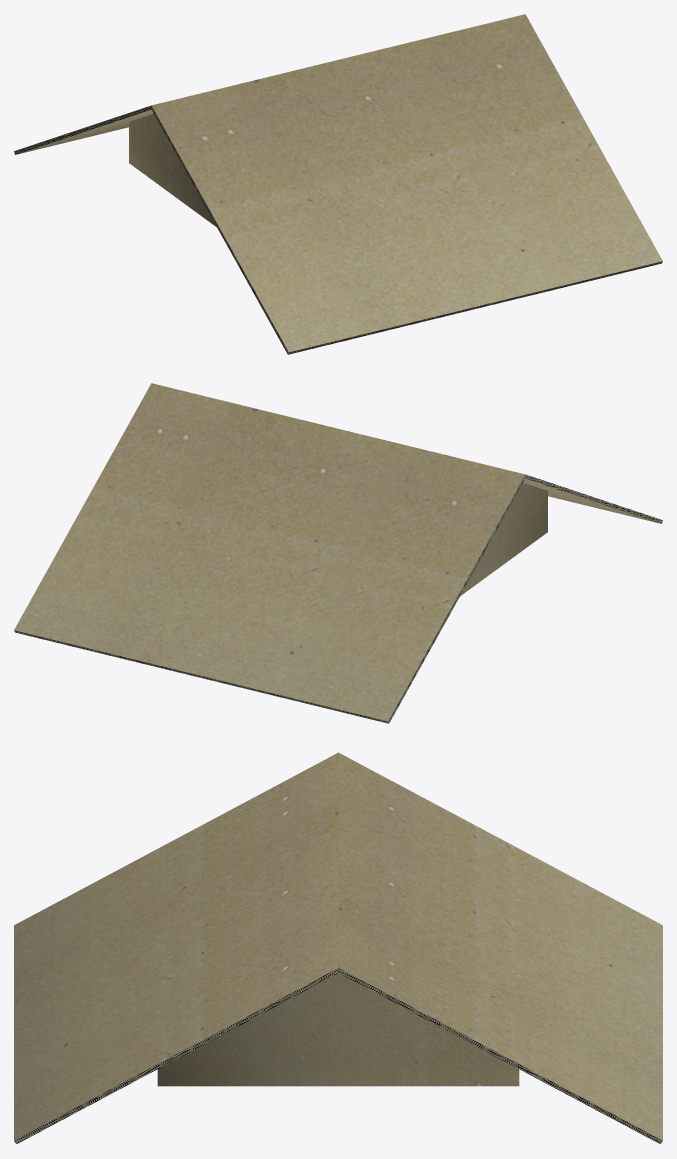
File: roof_dannbo.FBX
3 views of the same model, one above another, from view 1: azimuth 30°, elevation 25°; view 2: azimuth 150°, elevation 25°; view 3: azimuth 270°, elevation 25° (orthographic). The views are drawn at different scales.
Visible parts, largest first — view 1: roof_dannbo; view 2: roof_dannbo; view 3: roof_dannbo.
Part boxes in pixels (x1=…): roof_dannbo: x1=14, y1=14, x2=662, y2=354; roof_dannbo: x1=14, y1=383, x2=662, y2=723; roof_dannbo: x1=14, y1=752, x2=662, y2=1144.
Size of the model in its own units: 129 by 49.14 by 164.
